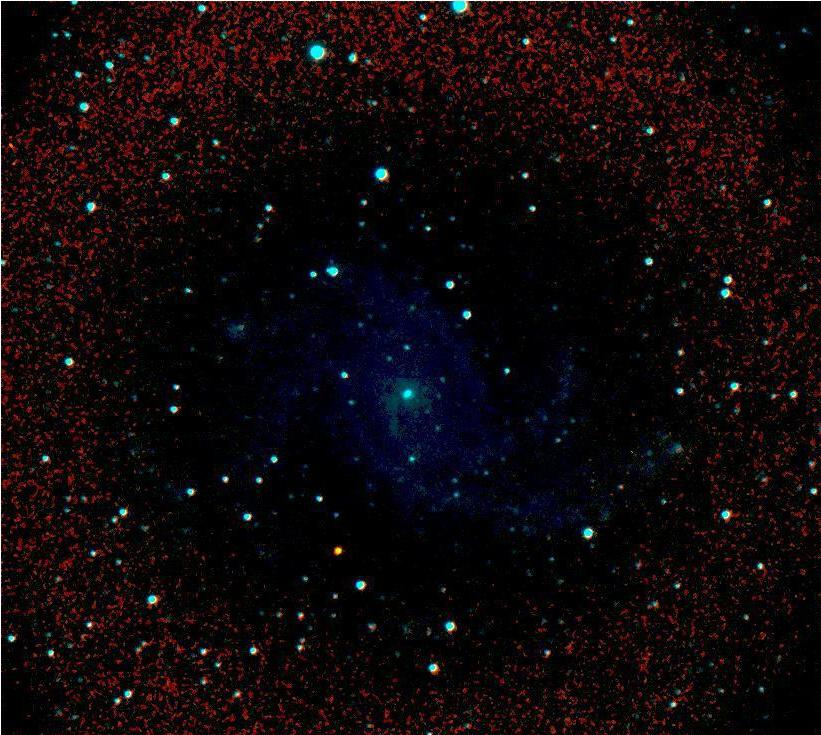star: (321, 537, 351, 567)
